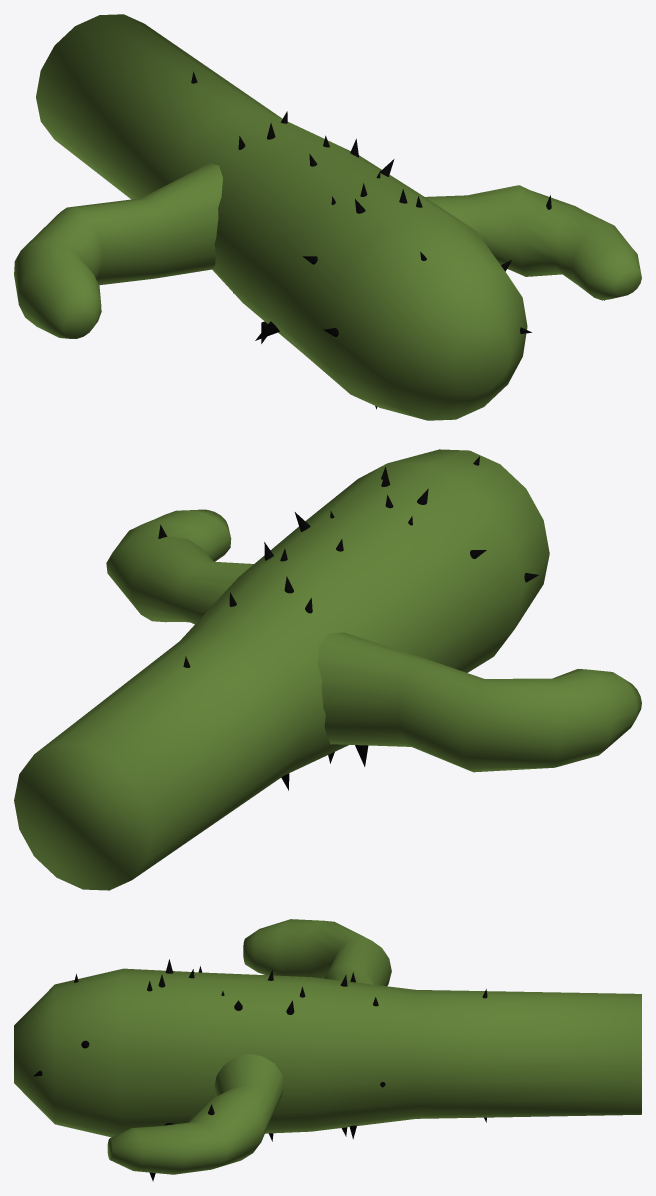
Rendered from CactoDuplo.fbx.
3 views of the same model, one above another, from view 1: azimuth 30°, elevation 25°; view 2: azimuth 150°, elevation 25°; view 3: azimuth 270°, elevation 25° (orthographic). The views are drawn at different scales.
Visible parts, largest first — view 1: CactoDuplo; view 2: CactoDuplo; view 3: CactoDuplo.
Boxes of the visible parts, x1,y1,x2,y2 form: CactoDuplo: (14,14,641,420); CactoDuplo: (14,449,641,890); CactoDuplo: (14,919,641,1181).
Bounding box in the file's own units: 177 × 67.96 × 222.
